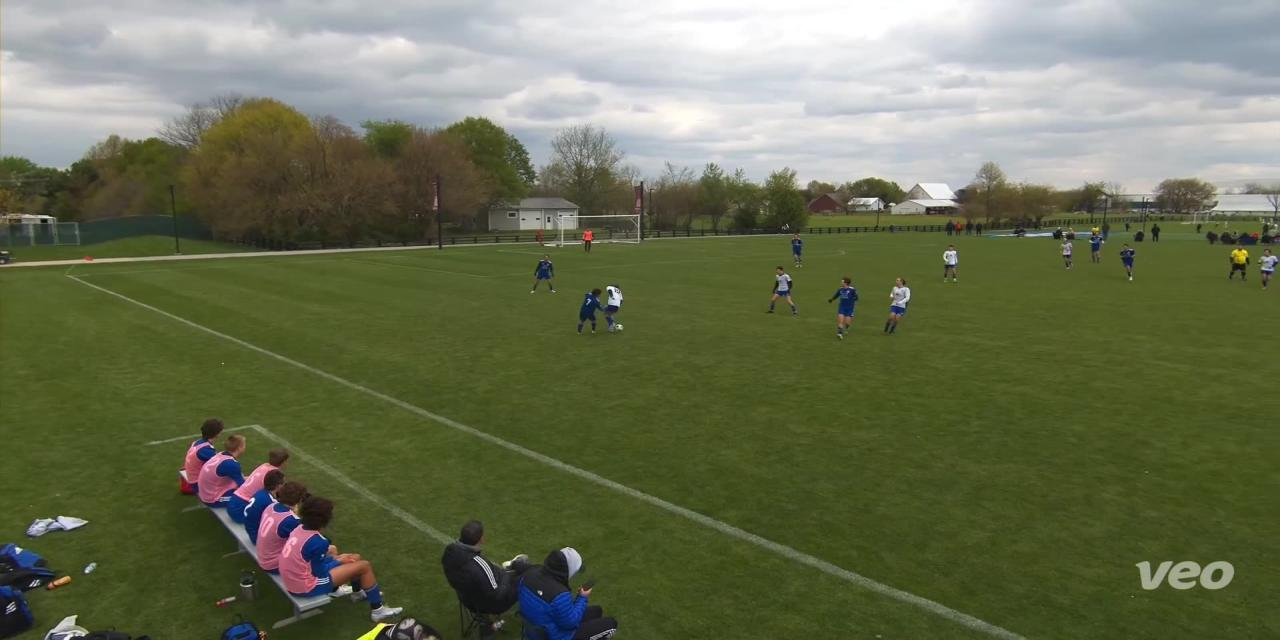goal: (522, 206, 660, 254)
sports ball: (612, 320, 634, 337)
